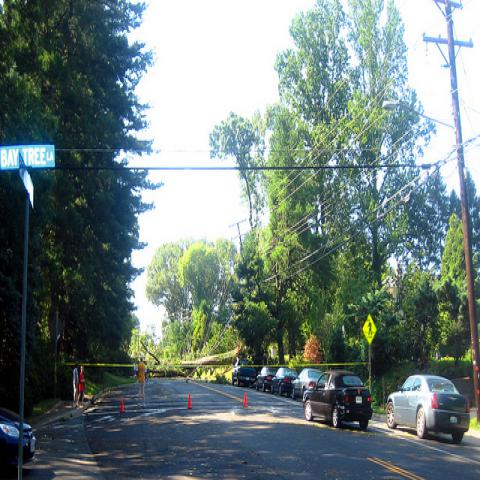car: (386, 375, 468, 433), (302, 372, 372, 429), (0, 412, 35, 467), (292, 368, 324, 399), (270, 367, 298, 397), (231, 358, 256, 386), (256, 366, 277, 394)
